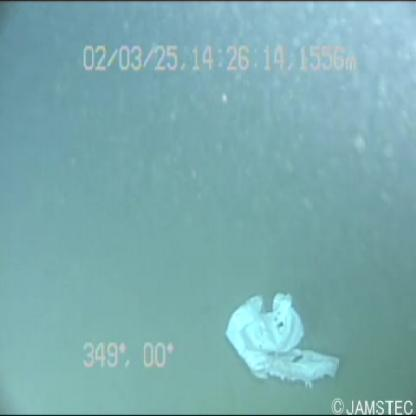Rác: (215, 282, 345, 393)
